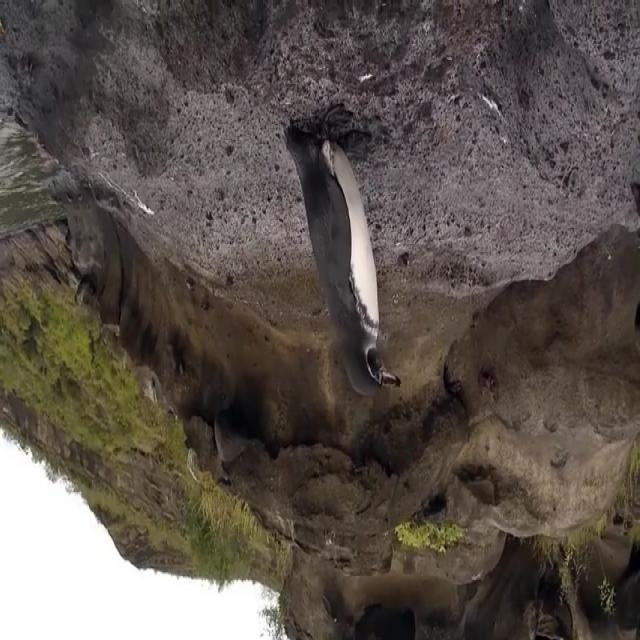penguin: (282, 104, 400, 396)
